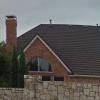Chimney: (2, 8, 23, 49)
